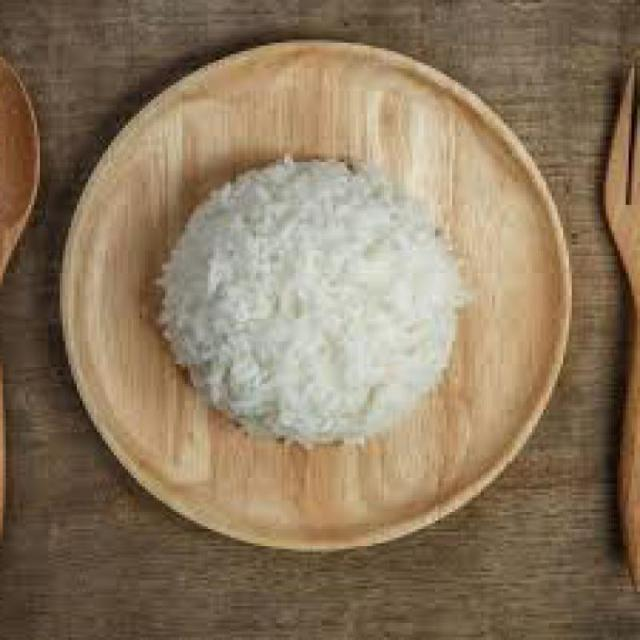nasi_putih: (158, 158, 462, 449)
